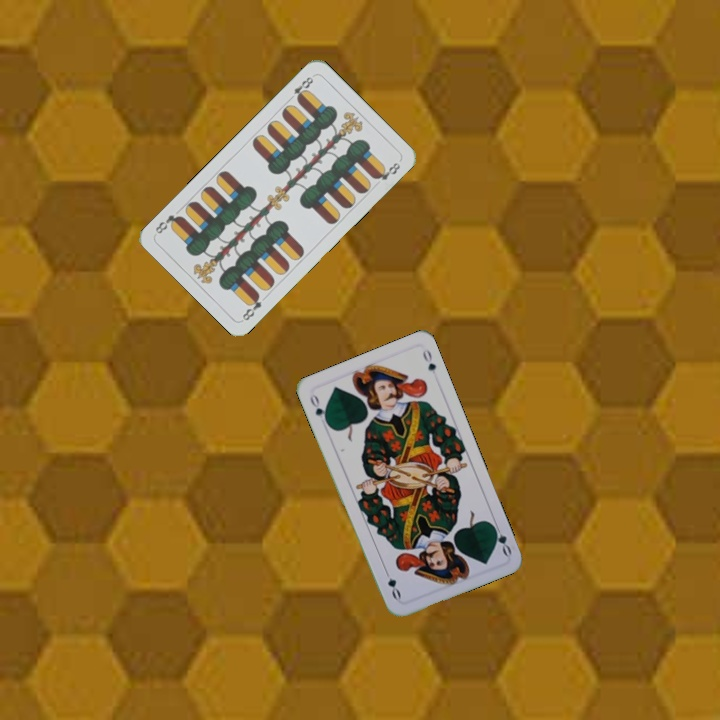E8: (284, 73, 316, 104), (238, 289, 264, 323)
GO: (488, 519, 514, 558), (306, 390, 331, 427)
